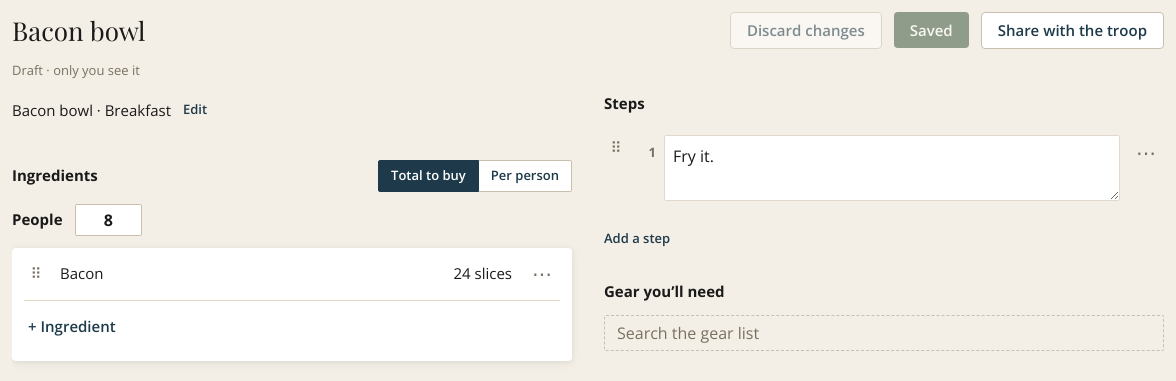
Test: RecipeEditor sharing › SharedRecipe_ShowsItsCredit_AndNoShareButton
The image size is (1176, 381).
What coordinates should you click on to do the following:
click the button "Share with the troop"
I would click on:
 (1072, 30)
Its box is x1=981 y1=12 x2=1164 y2=48.
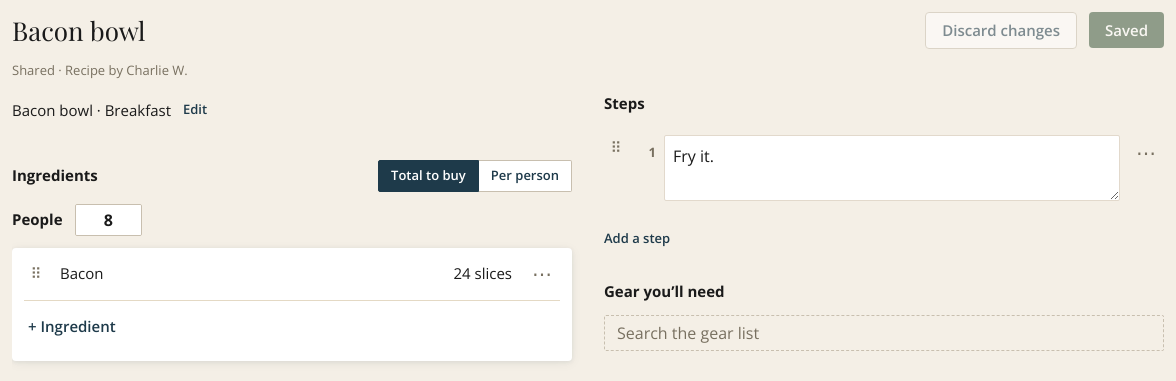
Check: the text "Shared · Recipe by Charlie W." is shown, box x1=12 y1=60 x2=188 y2=78
Check: the button "Share with the troop" is gone
